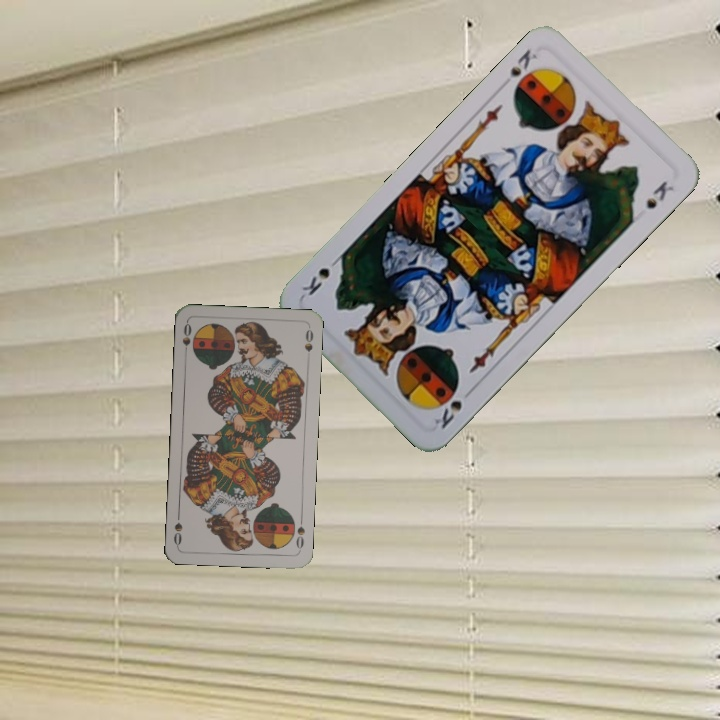SK: (430, 384, 476, 432), (506, 45, 540, 79)
SO: (178, 319, 194, 359), (292, 513, 307, 553)
